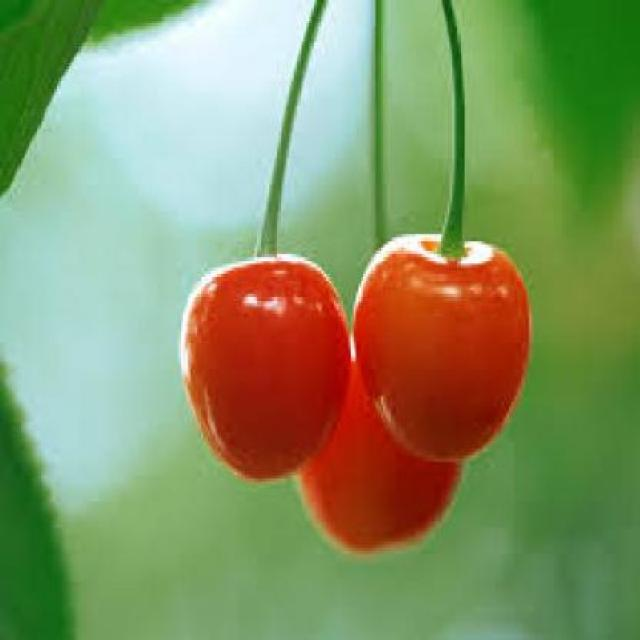BIODEGRADABLE: (350, 225, 532, 452), (178, 250, 353, 482), (292, 330, 462, 552)
